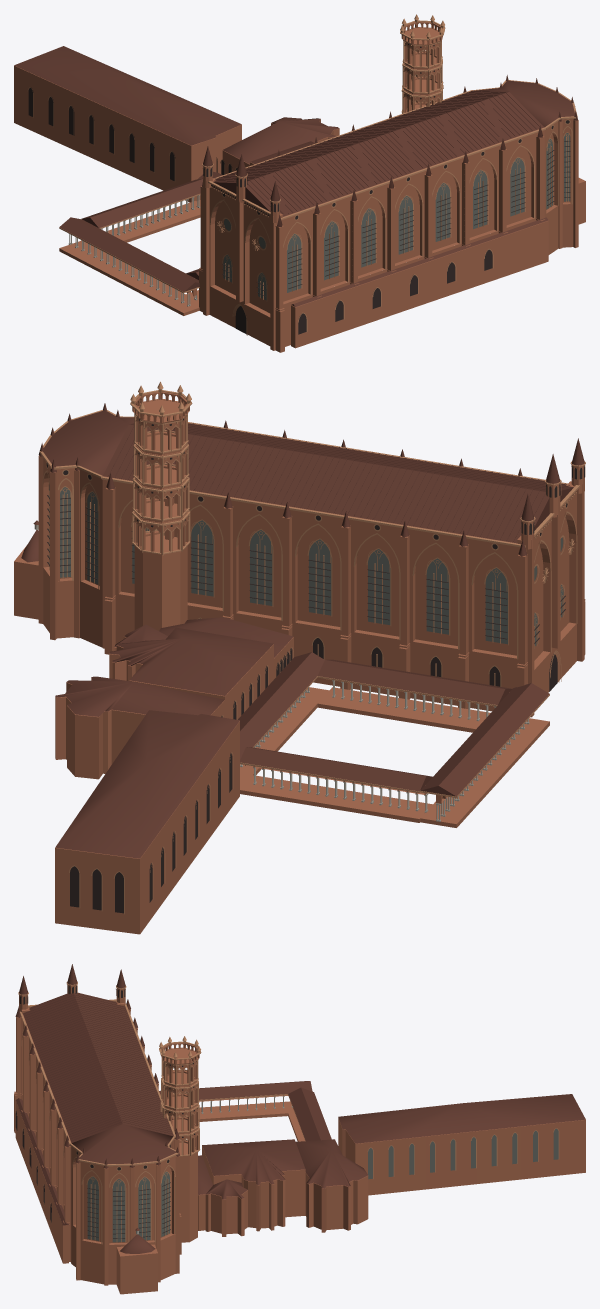
File: couvent-des-jacobins-near.glb
3 renders of one model, top to bottom at view 1: azimuth 30°, elevation 25°; view 2: azimuth 150°, elevation 25°; view 3: azimuth 270°, elevation 25°, orthographic. The views are drawn at different scales.
Parts seen in each view (by area): view 1: couvent-des-jacobins-0-brick, couvent-des-jacobins-0-roof, couvent-des-jacobins-0-trim, couvent-des-jacobins-0-glass, couvent-des-jacobins-0-recess, couvent-des-jacobins-0-stone; view 2: couvent-des-jacobins-0-brick, couvent-des-jacobins-0-roof, couvent-des-jacobins-0-trim, couvent-des-jacobins-0-glass, couvent-des-jacobins-0-recess, couvent-des-jacobins-0-stone; view 3: couvent-des-jacobins-0-brick, couvent-des-jacobins-0-roof, couvent-des-jacobins-0-trim, couvent-des-jacobins-0-glass, couvent-des-jacobins-0-recess.
Boxes of the visible parts, bbox=[...] form: couvent-des-jacobins-0-brick: bbox=[14, 21, 585, 352]; couvent-des-jacobins-0-roof: bbox=[14, 46, 577, 306]; couvent-des-jacobins-0-trim: bbox=[27, 14, 577, 335]; couvent-des-jacobins-0-glass: bbox=[223, 133, 570, 300]; couvent-des-jacobins-0-recess: bbox=[28, 43, 570, 334]; couvent-des-jacobins-0-stone: bbox=[68, 195, 200, 306]; couvent-des-jacobins-0-brick: bbox=[14, 391, 585, 934]; couvent-des-jacobins-0-roof: bbox=[21, 403, 584, 858]; couvent-des-jacobins-0-trim: bbox=[39, 381, 585, 914]; couvent-des-jacobins-0-glass: bbox=[49, 485, 563, 645]; couvent-des-jacobins-0-recess: bbox=[46, 418, 584, 913]; couvent-des-jacobins-0-stone: bbox=[34, 525, 529, 821]; couvent-des-jacobins-0-brick: bbox=[14, 984, 585, 1294]; couvent-des-jacobins-0-roof: bbox=[15, 964, 585, 1253]; couvent-des-jacobins-0-trim: bbox=[15, 982, 559, 1244]; couvent-des-jacobins-0-glass: bbox=[87, 1128, 558, 1242]; couvent-des-jacobins-0-recess: bbox=[15, 985, 195, 1238].
Bounding box in the file's own units: 96.27 × 45 × 122.
